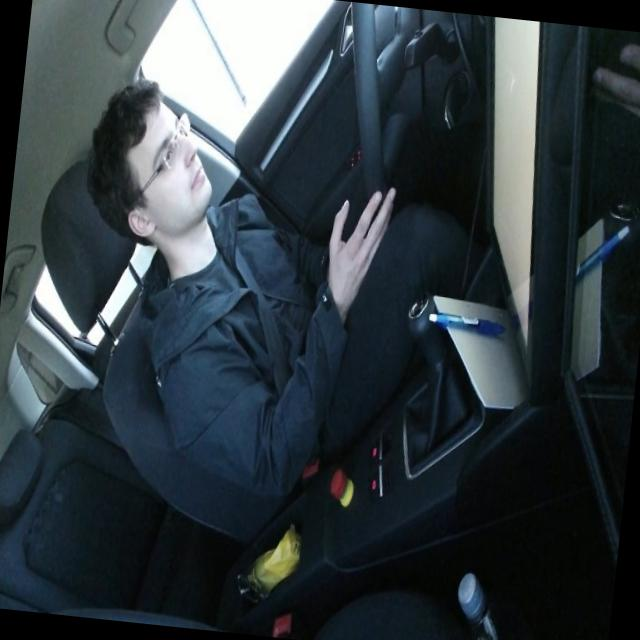pen: (426, 308, 505, 336)
